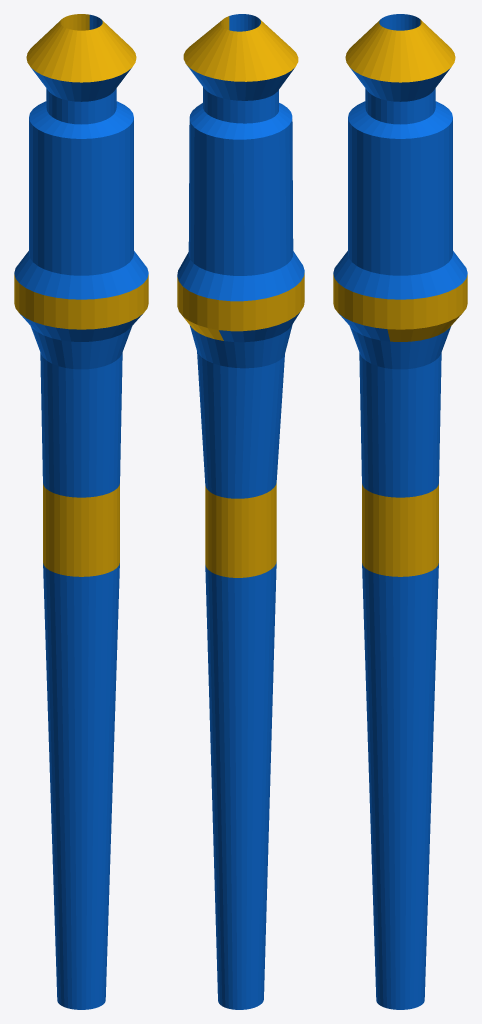
The model's file is key2.fbx.
3 renders of one model, left to right at view 1: azimuth 90°, elevation 25°; view 2: azimuth 150°, elevation 25°; view 3: azimuth 270°, elevation 25°, orthographic.
Visible parts, largest first — view 1: Cylinder; view 2: Cylinder; view 3: Cylinder.
Part boxes in pixels (left/top/right/bottom): Cylinder: left=14, top=14, right=148, bottom=1009; Cylinder: left=177, top=14, right=304, bottom=1009; Cylinder: left=333, top=14, right=467, bottom=1009.
Bounding box in the file's own units: 239 × 2055 × 256.
